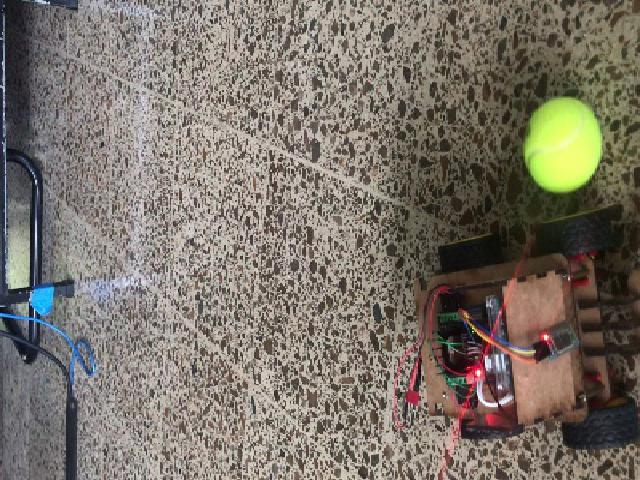Ball: (520, 97, 603, 193)
Robot: (413, 205, 637, 449)
